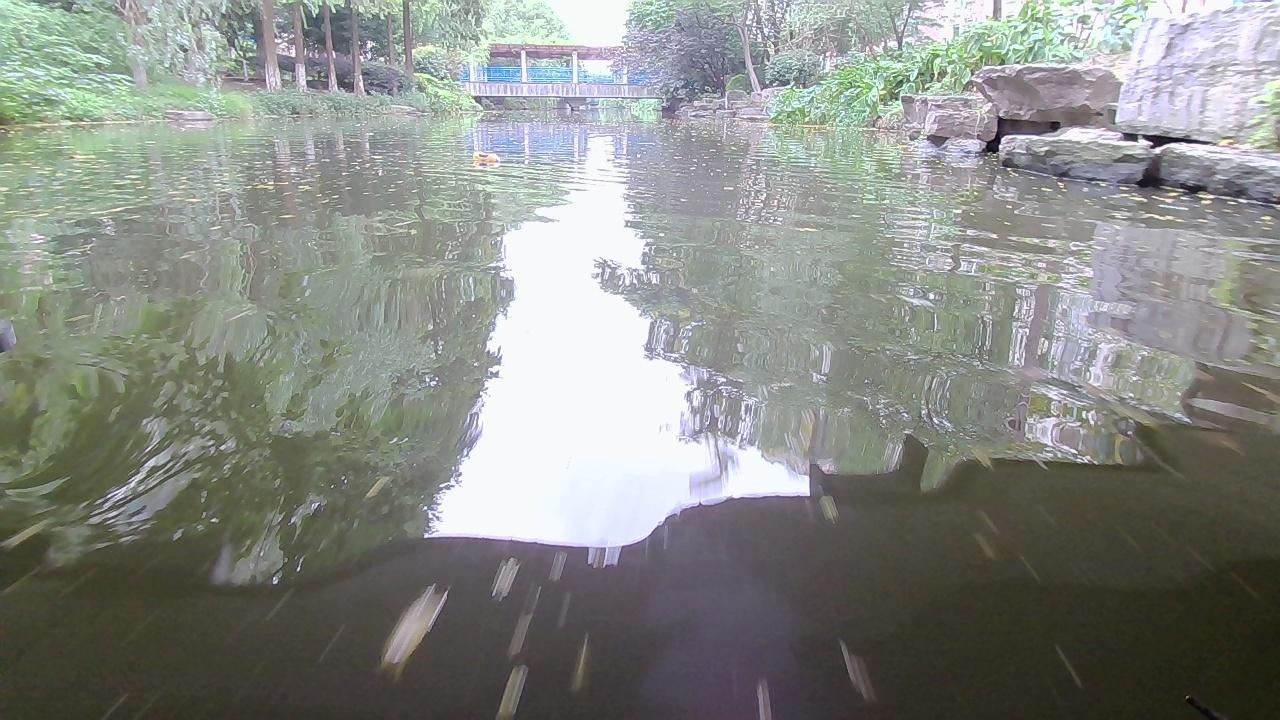bottle: (471, 147, 499, 165)
